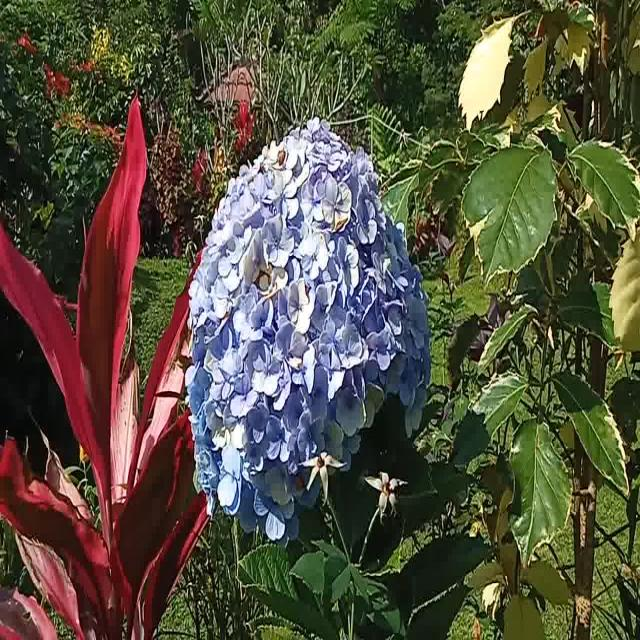Flower: (185, 119, 431, 531)
